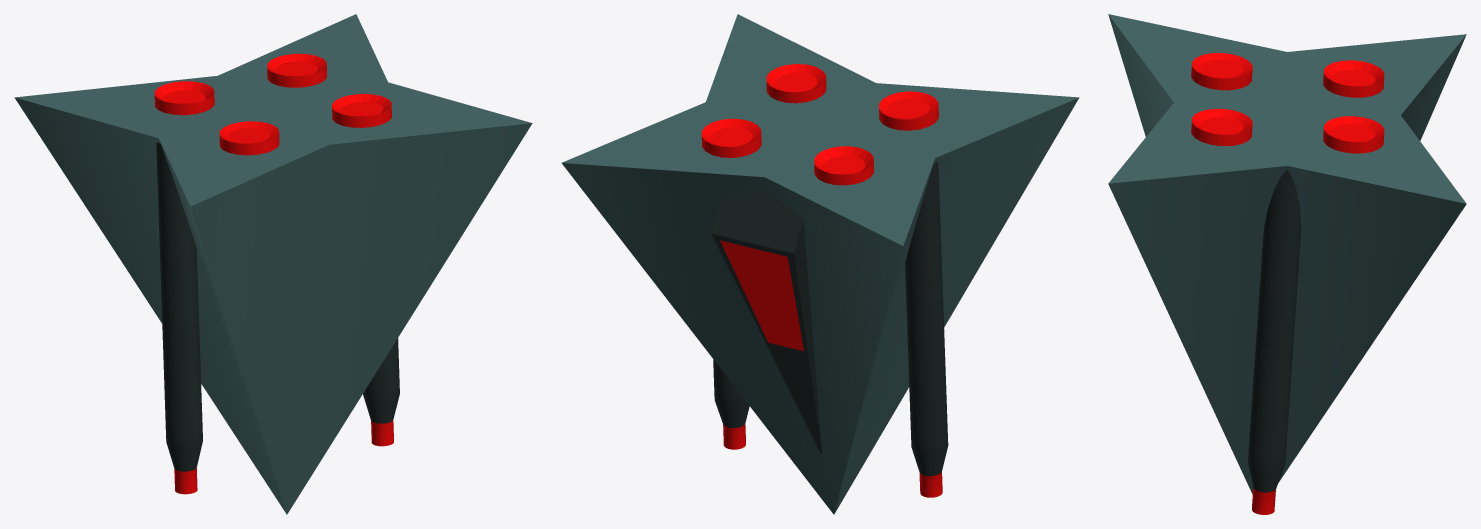
File: Enemy Ship 1a.FBX
3 views of the same model, side by side, from view 1: azimuth 30°, elevation 25°; view 2: azimuth 150°, elevation 25°; view 3: azimuth 270°, elevation 25° (orthographic).
Visible parts, largest first — view 1: Enemy Ship1; view 2: Enemy Ship1; view 3: Enemy Ship1.
Boxes of the visible parts, x1,y1,x2,y2 form: Enemy Ship1: [14, 14, 532, 514]; Enemy Ship1: [562, 14, 1079, 514]; Enemy Ship1: [1108, 14, 1466, 514].
Bounding box in the file's own units: 30.4 × 34.94 × 27.15.
